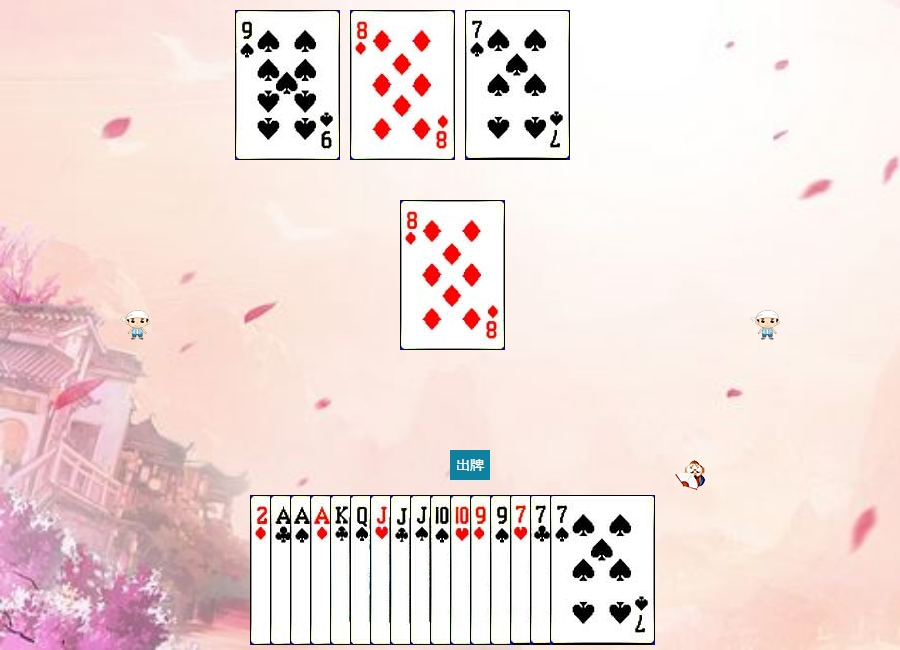10~3: (450, 495, 555, 645)
10~4: (430, 495, 535, 645)
11~2: (390, 495, 495, 645)
11~3: (370, 495, 475, 645)
11~4: (410, 495, 515, 645)
12~4: (350, 495, 455, 645)
13~2: (330, 495, 435, 645)
14~1: (310, 495, 415, 645)
14~2: (270, 495, 375, 645)
14~4: (290, 495, 395, 645)
15~1: (250, 495, 355, 645)
7~2: (530, 495, 635, 645)
7~3: (510, 495, 615, 645)
7~4: (465, 10, 570, 160), (550, 495, 655, 645)
8~1: (350, 10, 455, 160), (400, 200, 505, 350)
9~1: (470, 495, 575, 645)
9~4: (235, 10, 340, 160), (490, 495, 595, 645)
